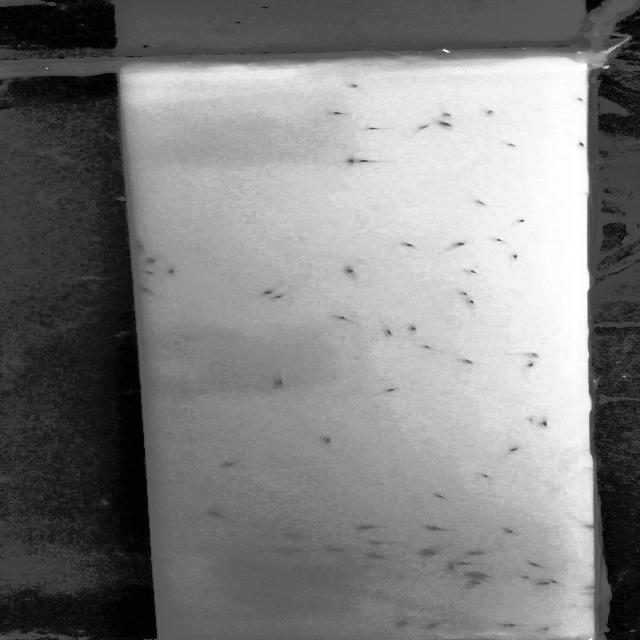shrimp: (271, 288, 306, 302), (404, 124, 431, 141), (132, 281, 158, 298), (332, 314, 362, 328), (442, 240, 474, 252), (256, 284, 283, 298), (277, 545, 306, 558), (126, 236, 150, 250), (203, 506, 231, 518), (423, 524, 459, 533), (498, 523, 521, 537), (345, 266, 361, 285), (536, 413, 553, 430), (213, 459, 237, 471), (359, 551, 391, 560), (376, 386, 411, 394), (380, 322, 396, 339), (272, 373, 290, 388), (140, 254, 162, 266), (342, 79, 368, 89), (460, 295, 480, 308), (522, 350, 548, 360), (422, 620, 448, 630), (470, 198, 493, 209), (506, 251, 520, 269), (168, 262, 182, 280), (404, 319, 418, 337), (409, 343, 437, 352), (425, 491, 450, 501), (504, 443, 524, 455), (498, 622, 536, 628), (328, 109, 352, 118), (356, 157, 383, 165), (418, 548, 442, 557), (392, 619, 419, 627), (545, 575, 562, 587), (433, 120, 453, 130), (454, 357, 474, 367), (534, 623, 556, 632), (463, 472, 490, 479), (357, 523, 384, 530), (466, 550, 493, 557), (142, 268, 160, 278), (466, 570, 486, 579), (482, 107, 501, 116), (452, 290, 471, 299), (516, 363, 535, 372), (435, 110, 456, 118), (501, 139, 522, 147), (278, 532, 306, 538), (318, 432, 334, 442), (362, 124, 384, 131), (526, 412, 538, 424), (573, 94, 586, 105), (466, 265, 479, 276), (362, 538, 382, 545), (442, 562, 459, 570), (530, 562, 547, 570), (510, 220, 529, 227), (532, 580, 554, 586), (406, 241, 420, 250), (492, 237, 509, 244), (518, 573, 535, 580), (480, 570, 493, 578), (574, 138, 584, 148), (346, 156, 358, 164), (463, 579, 486, 583), (456, 561, 471, 566), (323, 549, 350, 551)
